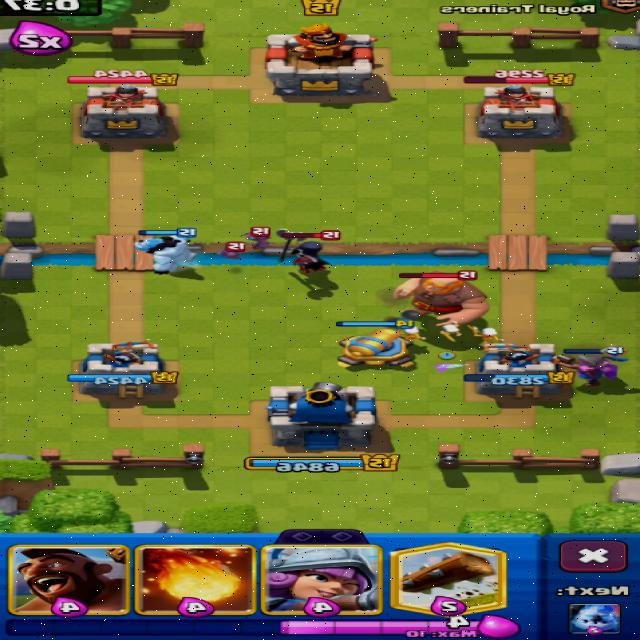Enemy-Bat: (242, 227, 270, 250), (218, 242, 245, 259)
Enemy-Giant: (394, 278, 489, 326)
Enemy-KingTower: (265, 22, 375, 97)
Enemy-NightWitch: (277, 229, 340, 274)
Enemy-PrincessTower: (83, 85, 170, 145), (479, 85, 562, 137)
Player-Cannon: (339, 328, 414, 366)
Player-IceGolem: (137, 235, 195, 274)
Player-KingTower-Activated: (266, 383, 376, 450)
Player-Musketeer-Evo: (560, 354, 617, 386)
Player-PrincessTower: (68, 340, 177, 398), (465, 343, 562, 398)
Player-Skeleton: (469, 326, 502, 343), (442, 322, 461, 341), (402, 327, 426, 340)
